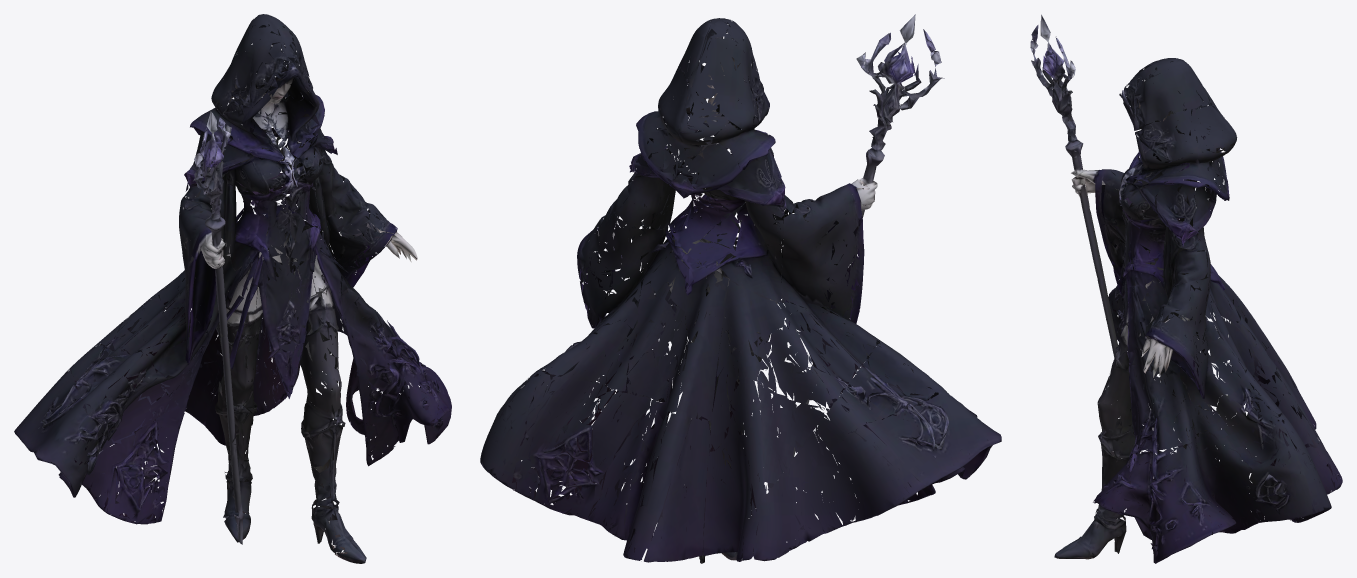
File: sorceress.glb
3 views of the same model, side by side, from view 1: azimuth 30°, elevation 25°; view 2: azimuth 150°, elevation 25°; view 3: azimuth 270°, elevation 25° (orthographic). The views are drawn at different scales.
Visible parts, largest first — view 1: tripo_node_4475020b; view 2: tripo_node_4475020b; view 3: tripo_node_4475020b.
Part boxes in pixels (<box>): tripo_node_4475020b: <box>14,14,451,563</box>; tripo_node_4475020b: <box>480,14,1001,563</box>; tripo_node_4475020b: <box>1030,14,1342,563</box>.
Size of the model in its own units: 0.8853 by 0.98 by 0.5743.
Materials: 1 (1 with a texture image).
